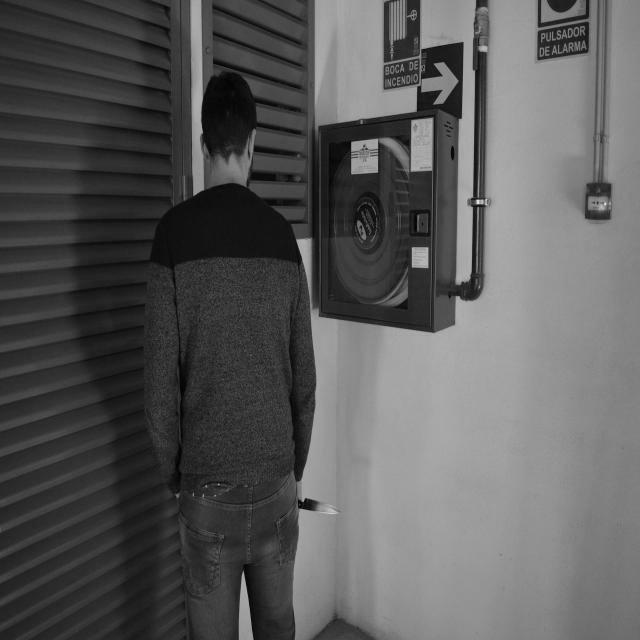knife: (298, 499, 342, 516)
